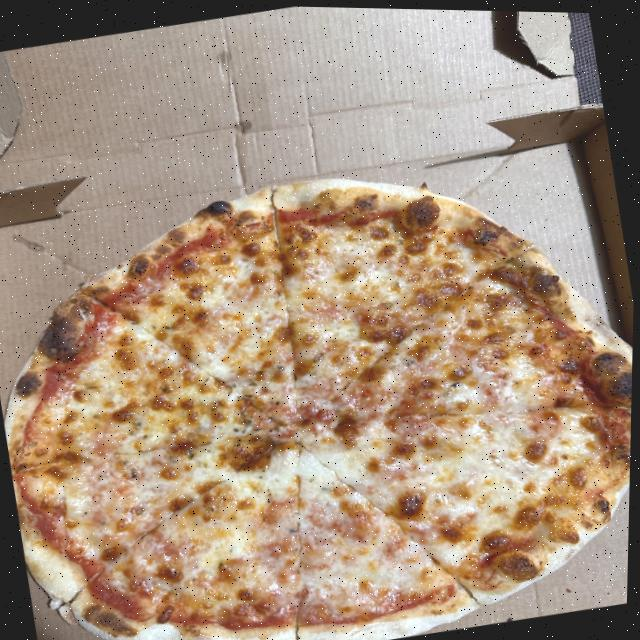pizza: (0, 116, 638, 640)
